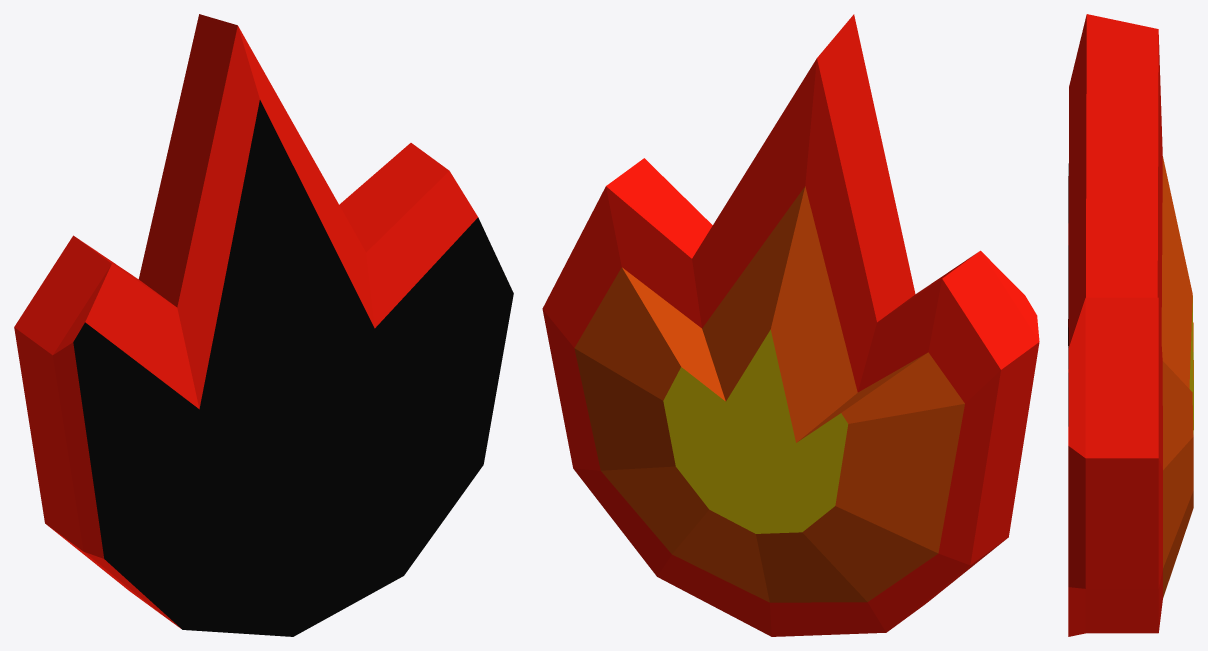
Rendered from fire.fbx.
3 renders of one model, left to right at view 1: azimuth 30°, elevation 25°; view 2: azimuth 150°, elevation 25°; view 3: azimuth 270°, elevation 25°, orthographic. The views are drawn at different scales.
Parts seen in each view (by area): view 1: Cylinder; view 2: Cylinder; view 3: Cylinder.
Part boxes in pixels (left/top/right/bottom): Cylinder: left=14, top=14, right=513, bottom=636; Cylinder: left=542, top=14, right=1039, bottom=636; Cylinder: left=1068, top=14, right=1193, bottom=636.
Bounding box in the file's own units: 200 × 256 × 49.95.
